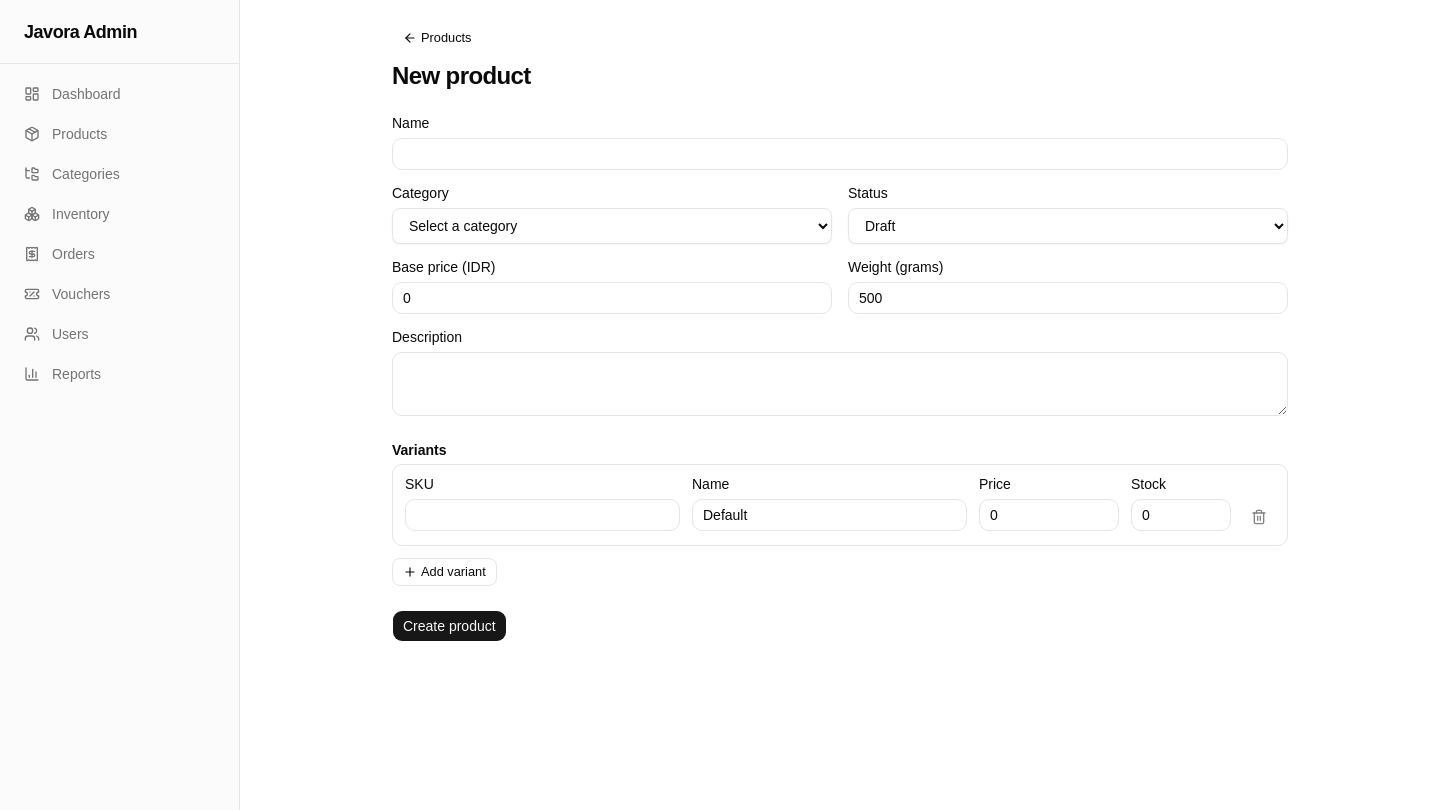
Test case: admin products › shows server conflicts such as a duplicate SKU
The image size is (1440, 810).
Type "Canvas Tote" into the 1st field labelled "Name" at (840, 154), box [392,138,1288,170]
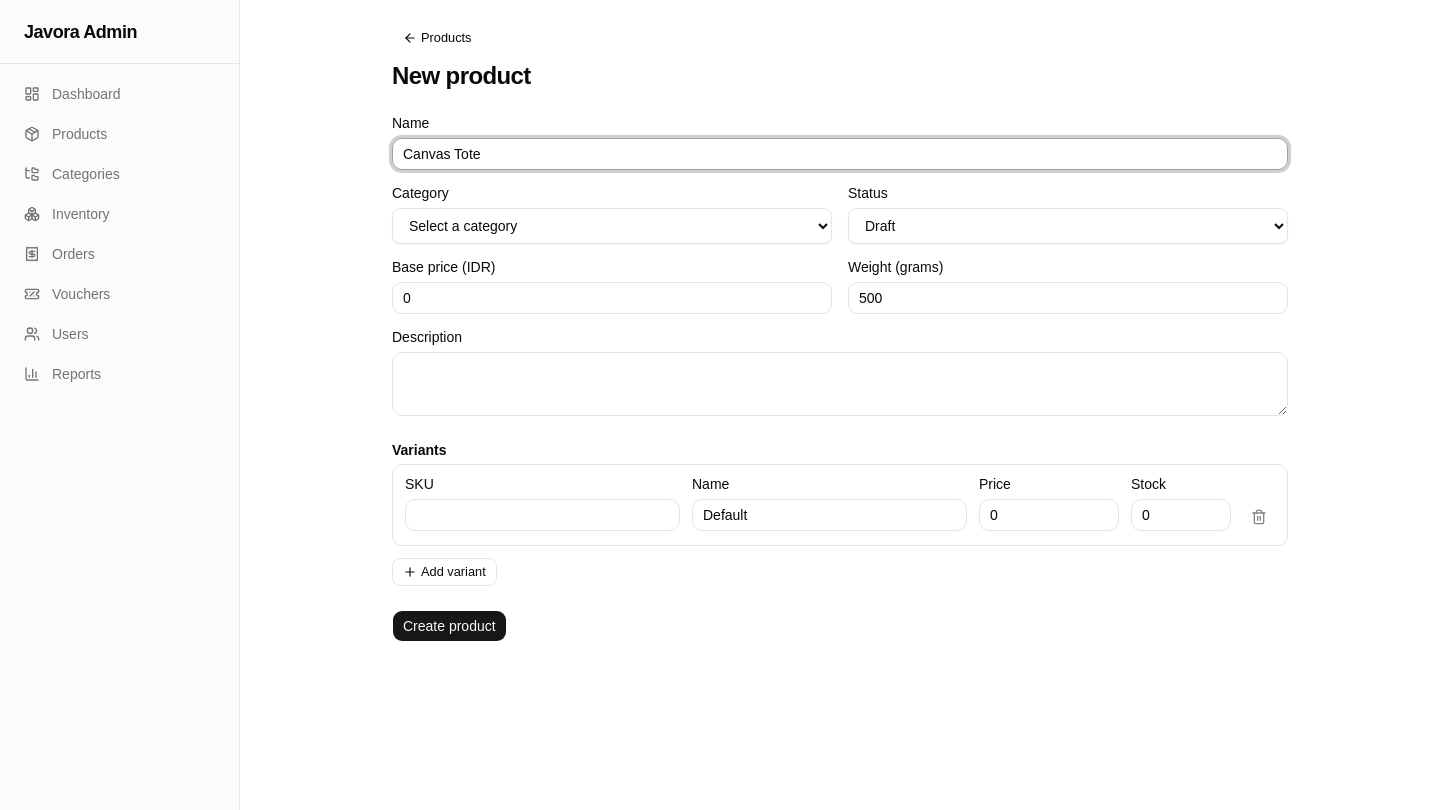
Select "— Shoes" in the dropdown labelled "Category" at (612, 226), box [392,208,832,244]
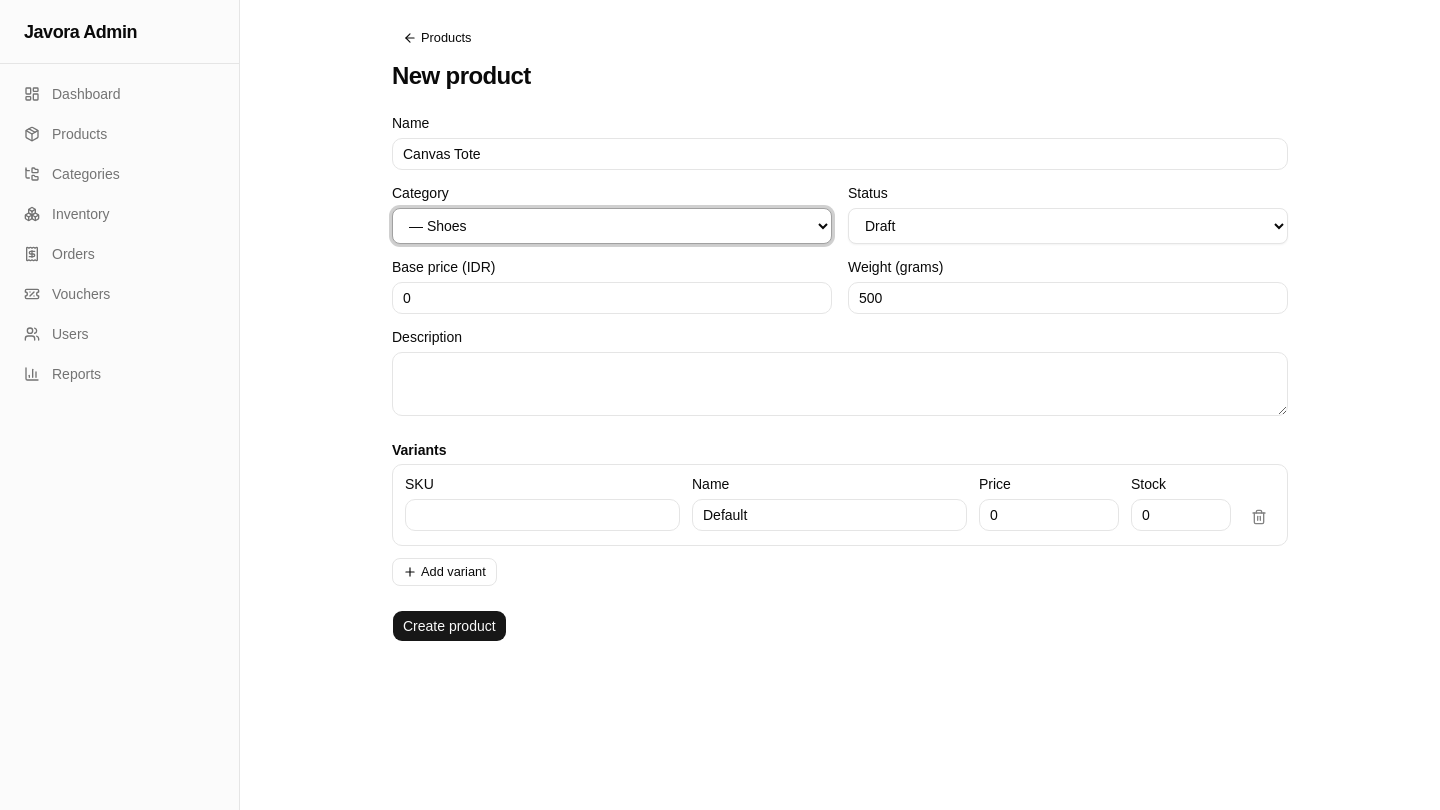
Type "TOTE-1" into the field labelled "SKU" at (542, 515), box [405,499,680,531]
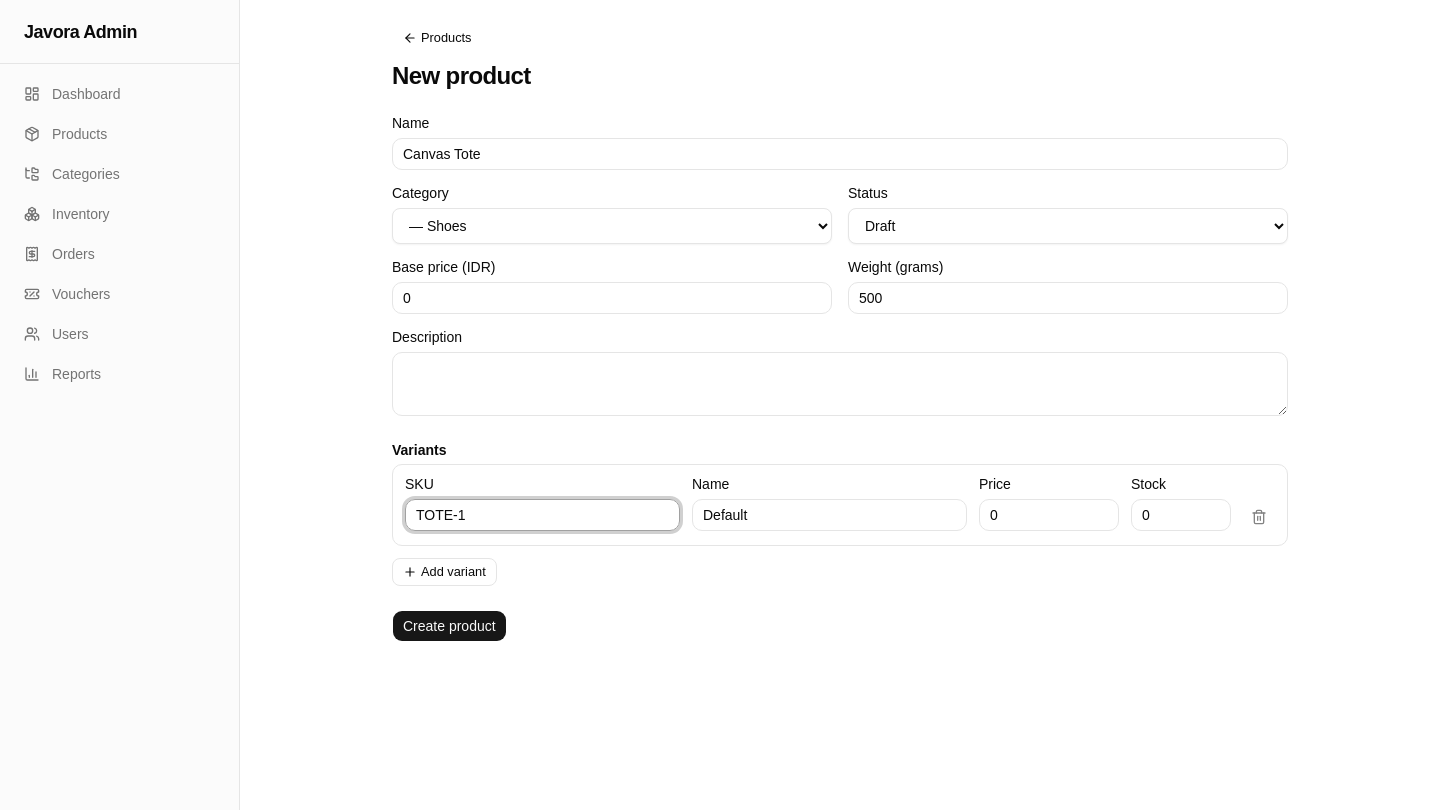
Click the button "Create product" at (449, 626), box [392,610,507,642]
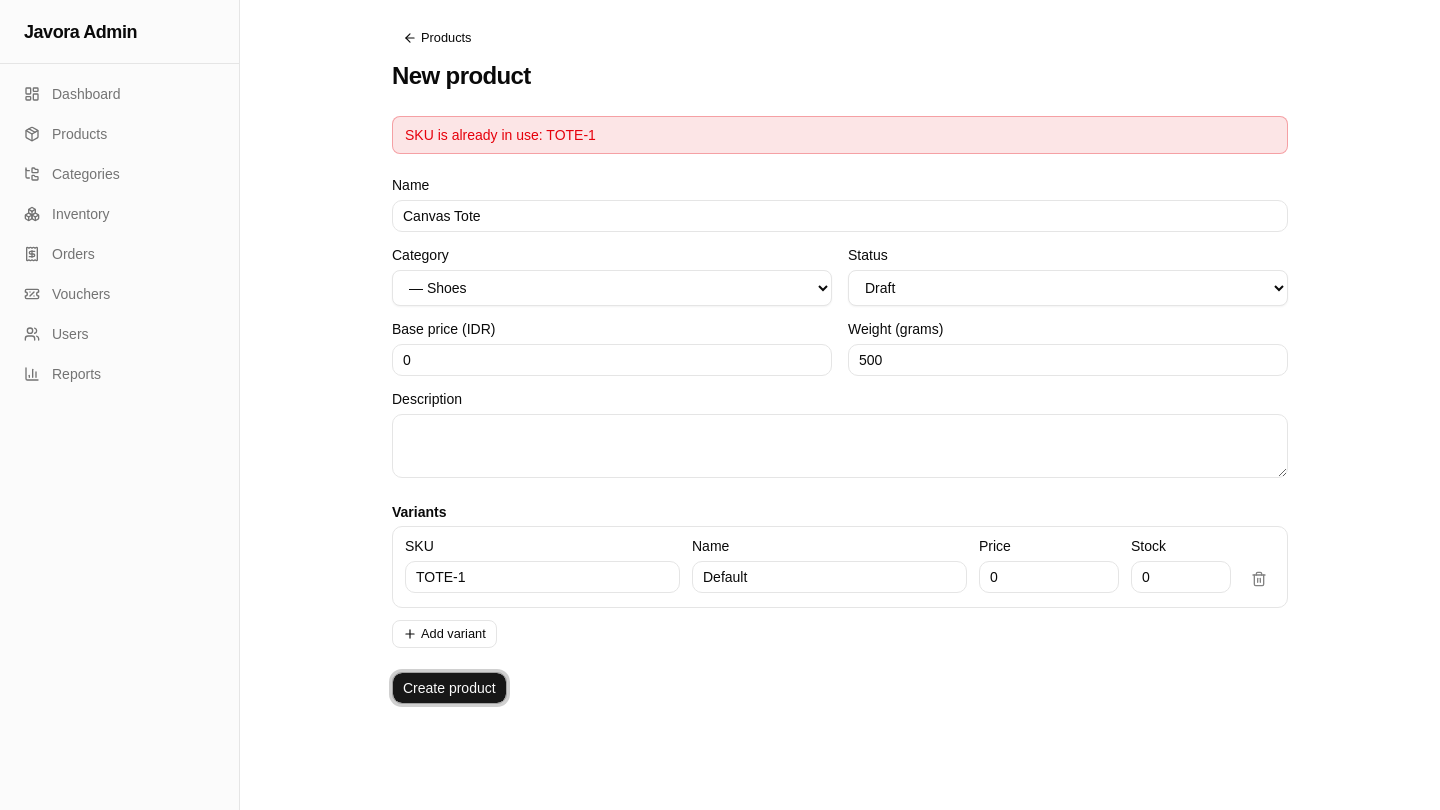
Expected: the message reads "SKU is already in use: TOTE-1", [405,127,596,143]
